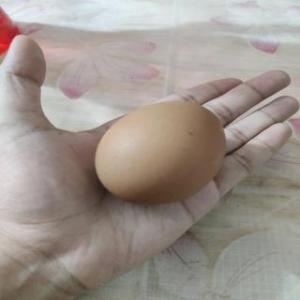egg: (94, 100, 228, 206)
